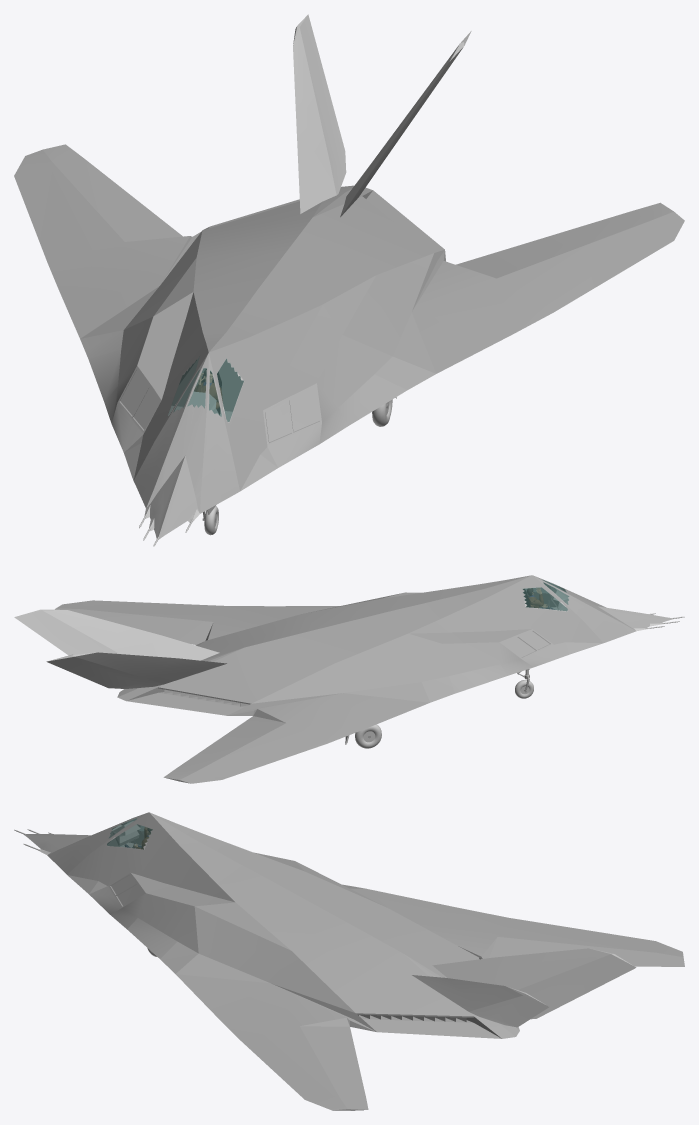
3 renders of one model, top to bottom at view 1: azimuth 30°, elevation 25°; view 2: azimuth 150°, elevation 25°; view 3: azimuth 270°, elevation 25°, orthographic. The views are drawn at different scales.
Visible parts, largest first — view 1: Line__01-FACES, Box67-FACES, Line__01-FACES_3, Object09-FACES_3, Object09-FACES, Box01-FACES; view 2: Line__01-FACES, Box01-FACES, Box67-FACES, Line__01-FACES_3, Object09-FACES_3, Object09-FACES, Torus09-FACES; view 3: Line__01-FACES, Box67-FACES, Box01-FACES, Line__01-FACES_3, Object09-FACES_3, Object09-FACES.
Part boxes in pixels (box(x1,y1,x2,y2)): Line__01-FACES: box(14, 144, 684, 539); Box67-FACES: box(293, 14, 346, 213); Line__01-FACES_3: box(168, 356, 243, 421); Object09-FACES_3: box(168, 359, 243, 421); Object09-FACES: box(167, 356, 244, 422); Box01-FACES: box(340, 31, 471, 217); Line__01-FACES: box(55, 575, 674, 783); Box01-FACES: box(14, 609, 219, 660); Box67-FACES: box(46, 652, 226, 688); Line__01-FACES_3: box(523, 579, 568, 610); Object09-FACES_3: box(523, 581, 568, 610); Object09-FACES: box(522, 579, 569, 611); Torus09-FACES: box(355, 724, 381, 748); Line__01-FACES: box(23, 812, 684, 1110); Box67-FACES: box(432, 948, 636, 1019); Box01-FACES: box(412, 975, 548, 1027); Line__01-FACES_3: box(107, 818, 152, 849); Object09-FACES_3: box(107, 818, 151, 849); Object09-FACES: box(106, 818, 151, 849).
Size of the model in its own units: 16.75 by 4.15 by 17.28.
